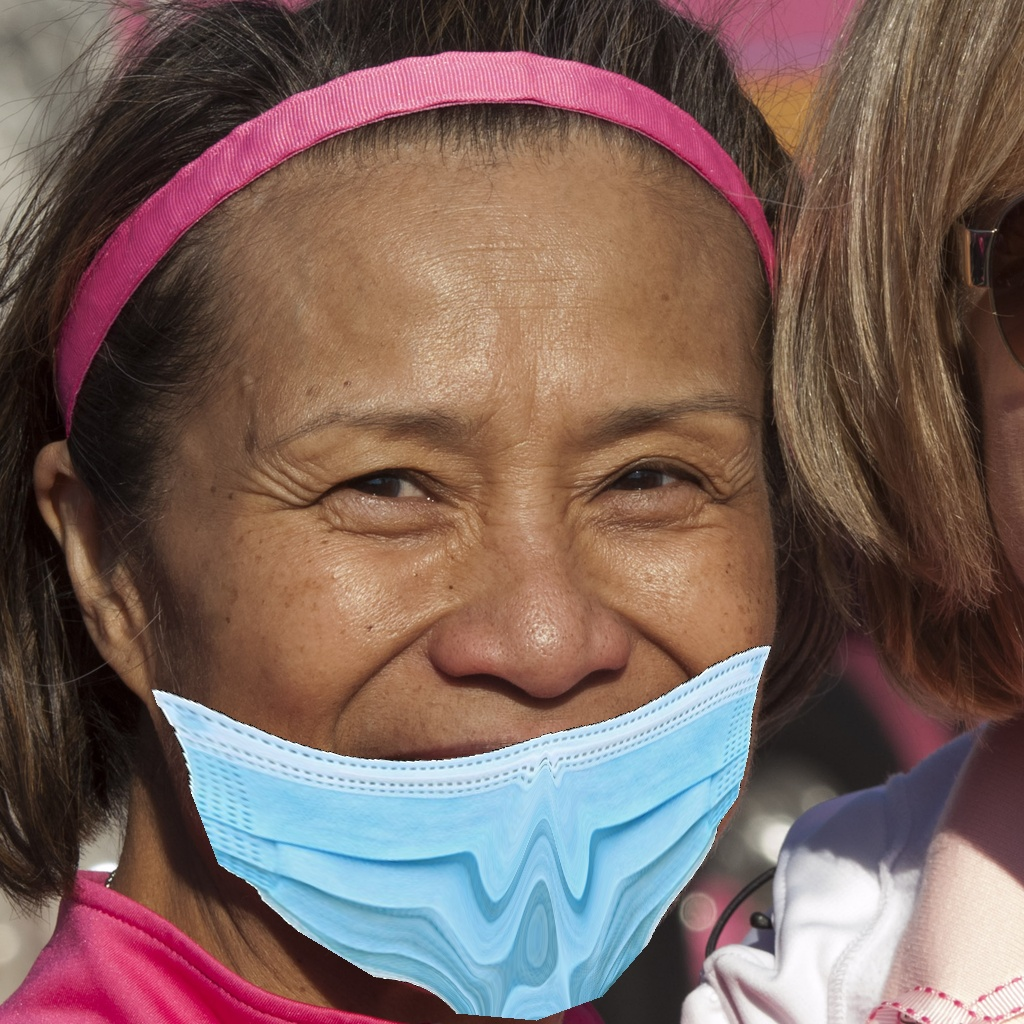mascarilla_mal_puesta: (104, 340, 879, 1024)
